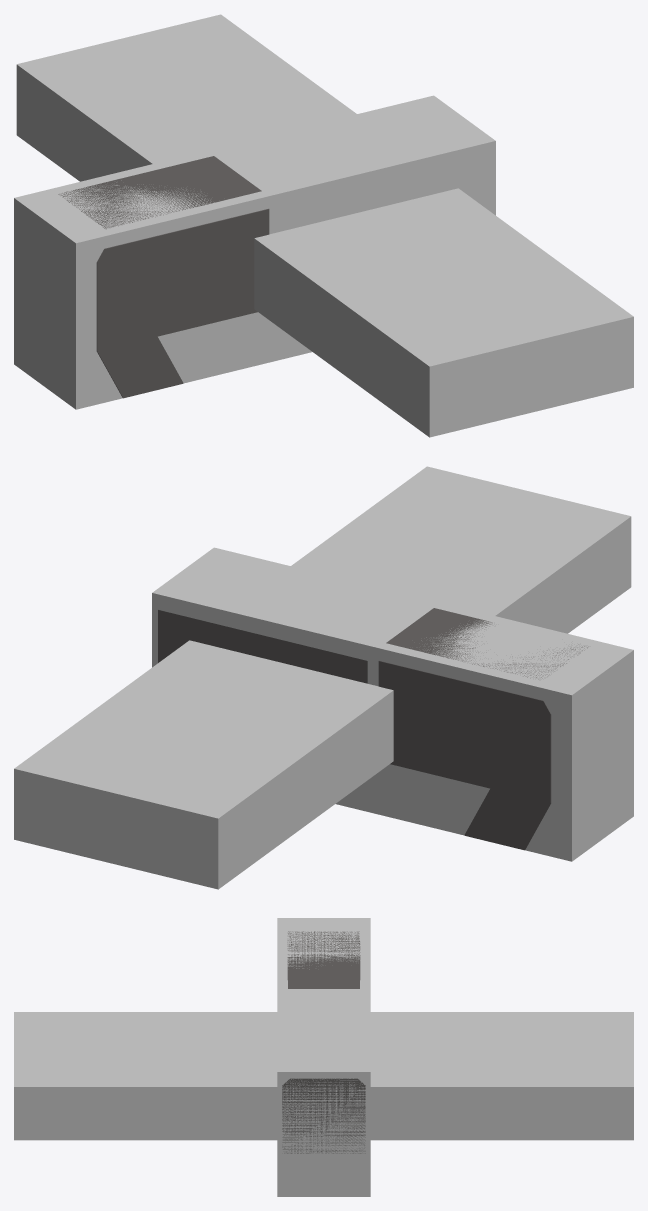
The model's file is SM_Drone_01.fbx.
The picture shows the model from 3 angles, top to bottom: view 1: azimuth 30°, elevation 25°; view 2: azimuth 150°, elevation 25°; view 3: azimuth 270°, elevation 25°; orthographic projection. The views are drawn at different scales.
Visible parts, largest first — view 1: SM_Drone_01_ConvexHulls, SM_Drone_01; view 2: SM_Drone_01_ConvexHulls, SM_Drone_01; view 3: SM_Drone_01_ConvexHulls, SM_Drone_01.
Part boxes in pixels (x1,y1,x2,y2): SM_Drone_01_ConvexHulls: (14, 14, 633, 437); SM_Drone_01: (58, 156, 269, 398); SM_Drone_01_ConvexHulls: (14, 466, 633, 889); SM_Drone_01: (158, 608, 588, 850); SM_Drone_01_ConvexHulls: (14, 918, 633, 1196); SM_Drone_01: (282, 931, 365, 1153).
Size of the model in its own units: 148 by 252 by 56.12.
